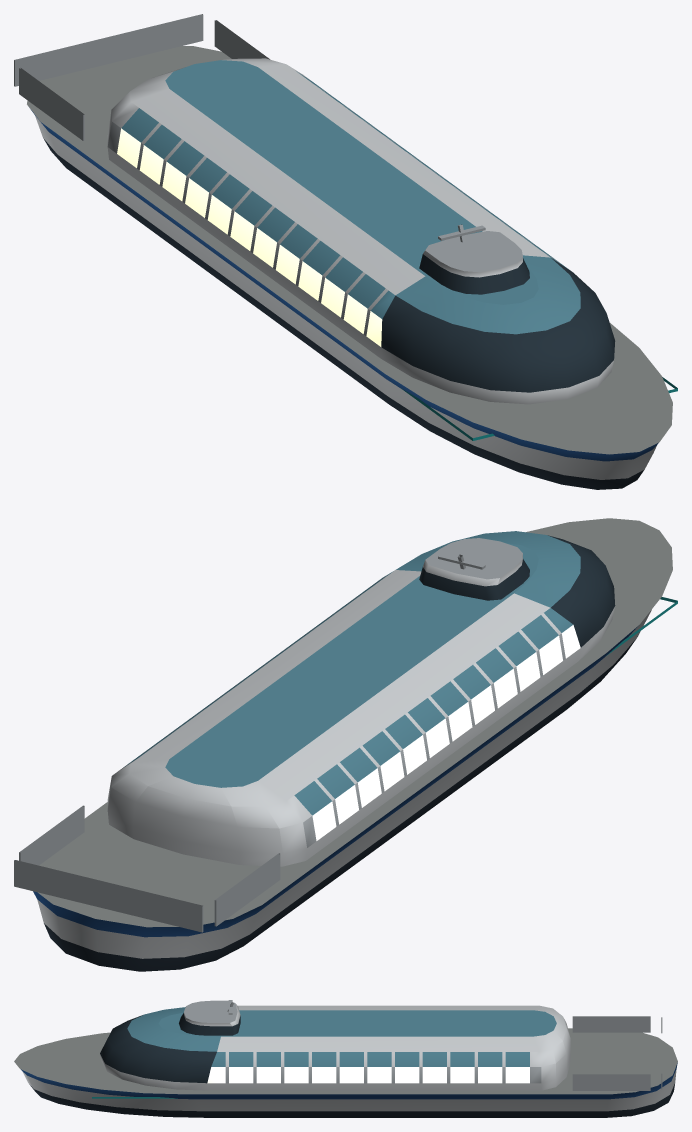
Rendered from tokyo_water_bus.glb.
The picture shows the model from 3 angles, top to bottom: view 1: azimuth 30°, elevation 25°; view 2: azimuth 150°, elevation 25°; view 3: azimuth 270°, elevation 25°; orthographic projection. The views are drawn at different scales.
Parts seen in each view (by area): view 1: tokyo_water_bus; view 2: tokyo_water_bus; view 3: tokyo_water_bus.
Boxes of the visible parts, x1,y1,x2,y2 form: tokyo_water_bus: [14, 14, 677, 489]; tokyo_water_bus: [14, 518, 677, 971]; tokyo_water_bus: [14, 1000, 677, 1117].
Bounding box in the file's own units: 8 × 5.02 × 34.
1 material, 1 textured.
